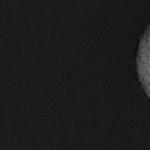colony: (125, 14, 150, 114)
